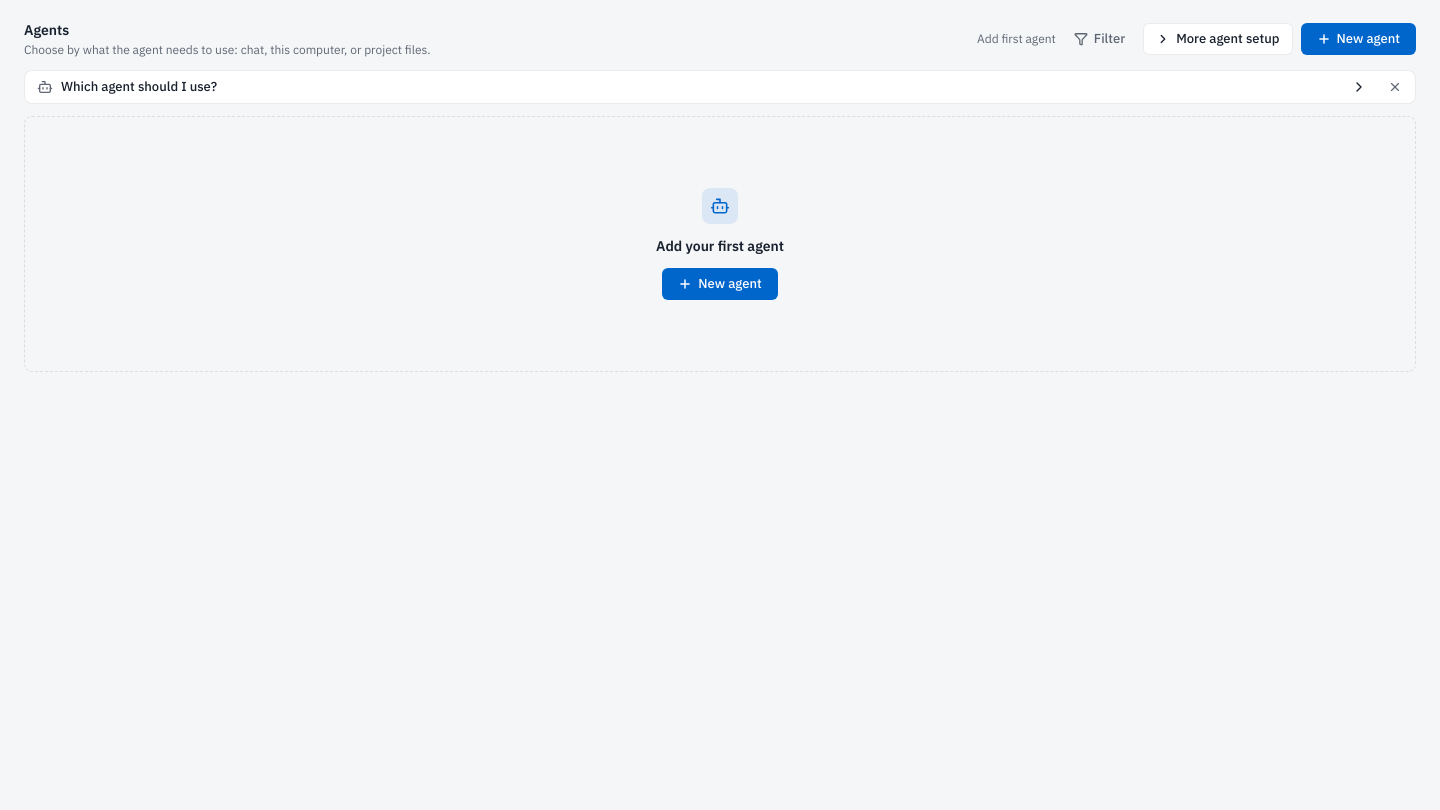
it: AgentListView › keeps place and computer setup collapsed by default
The width and height of the screenshot is (1440, 810).
Click the button "More agent setup" at [1218, 39], box [1143, 23, 1293, 55]
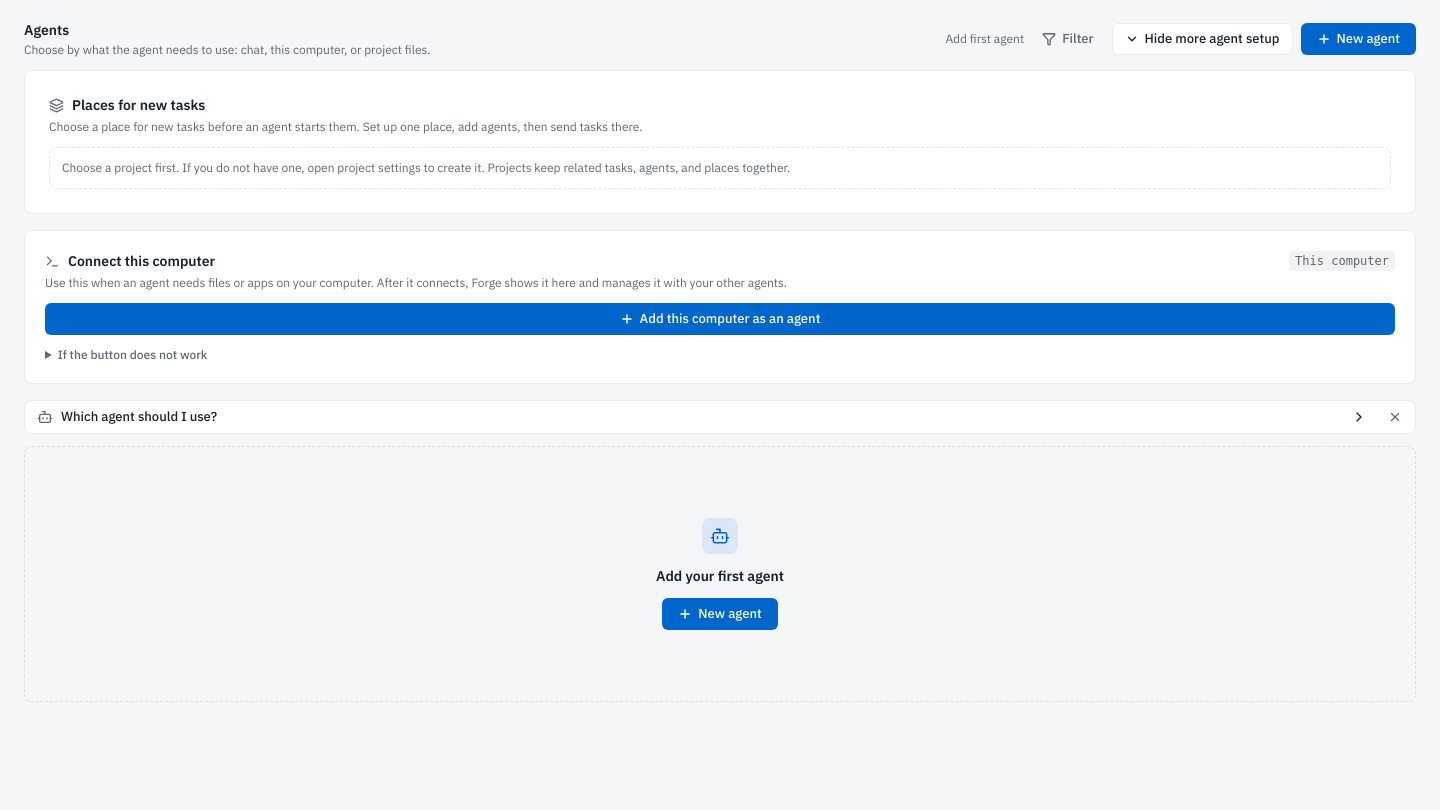
Now the button "Hide more agent setup" is expanded, box [1112, 23, 1293, 55]
Now the heading "Places for new tasks" is shown, box [72, 95, 205, 115]
Now the element with test id "host-cli-enrollment-panel" is shown, box [24, 230, 1416, 384]
